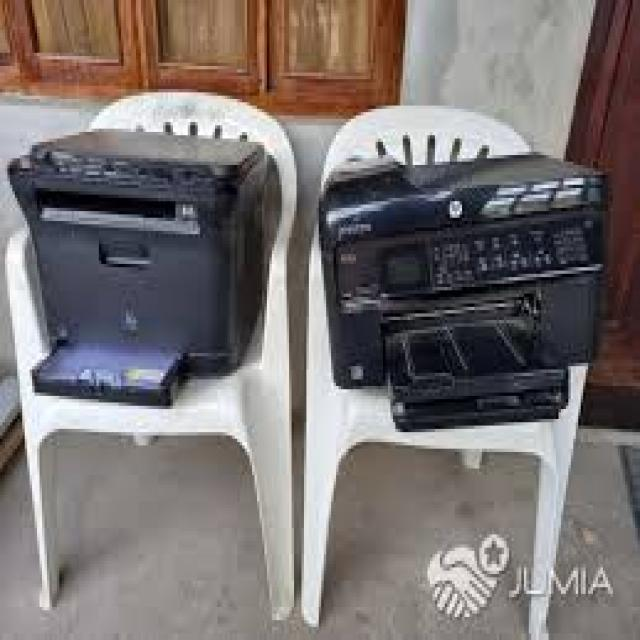printer: (320, 149, 614, 434), (8, 126, 272, 394)
